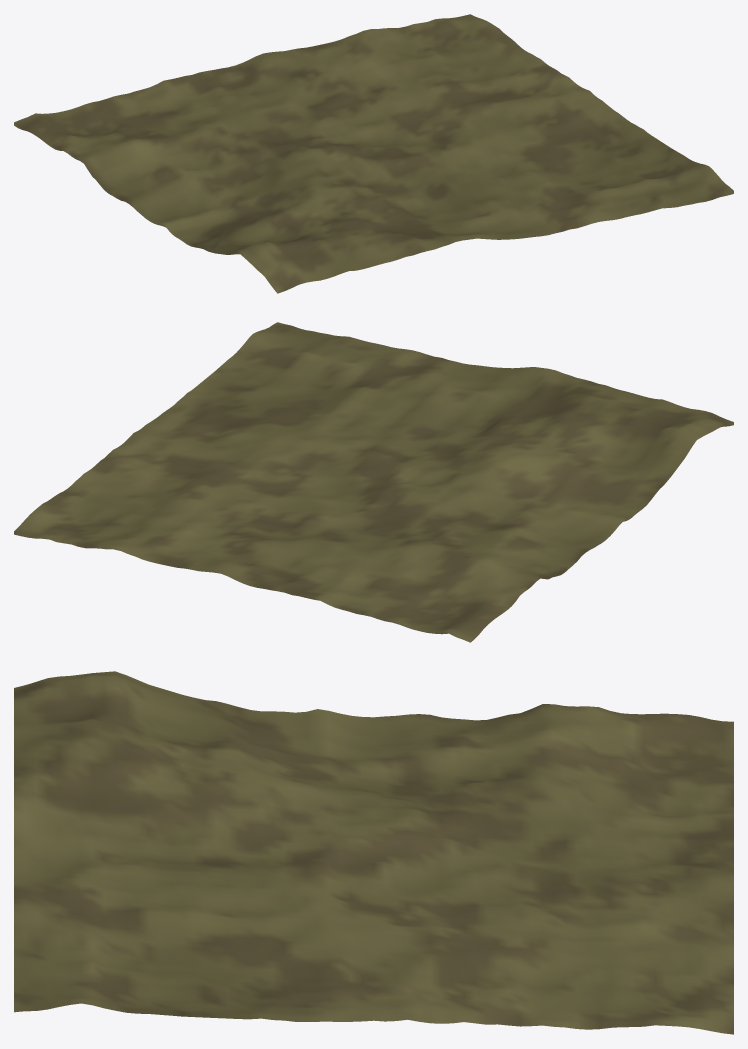
The model's file is land_f_03_08.glb.
3 renders of one model, top to bottom at view 1: azimuth 30°, elevation 25°; view 2: azimuth 150°, elevation 25°; view 3: azimuth 270°, elevation 25°, orthographic. The views are drawn at different scales.
Visible parts, largest first — view 1: land_f_03_08; view 2: land_f_03_08; view 3: land_f_03_08.
Boxes of the visible parts, x1,y1,x2,y2 form: land_f_03_08: (14, 14, 733, 293); land_f_03_08: (14, 322, 733, 642); land_f_03_08: (14, 671, 733, 1034).
Size of the model in its own units: 3840 by 377 by 3840.
